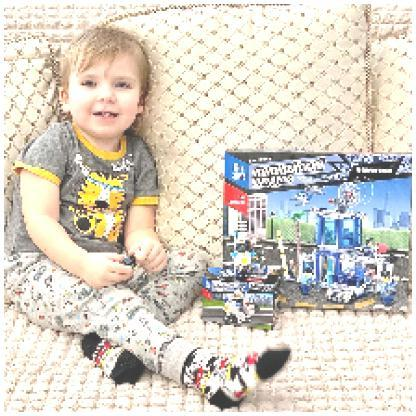child: (6, 27, 294, 412)
